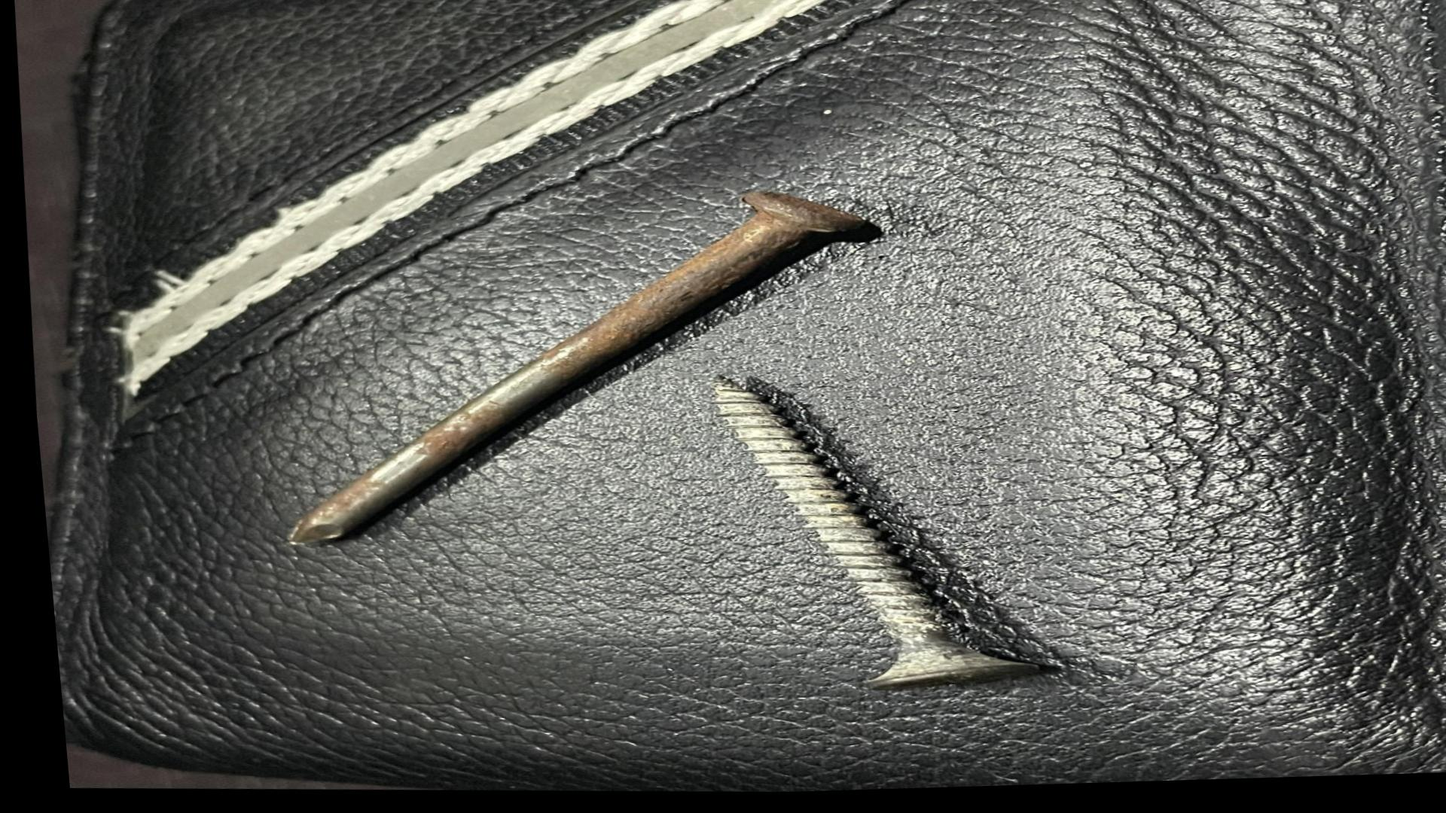nail: (206, 168, 924, 583)
screw: (667, 365, 1059, 711)
